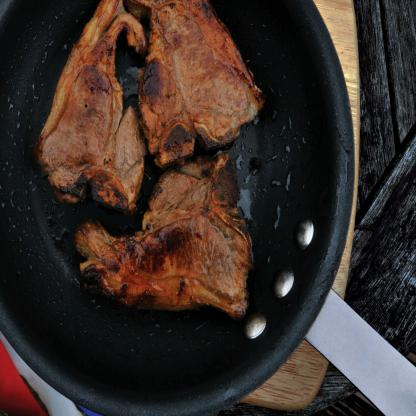Carne: (67, 165, 265, 305), (26, 0, 148, 209), (137, 0, 263, 176)
